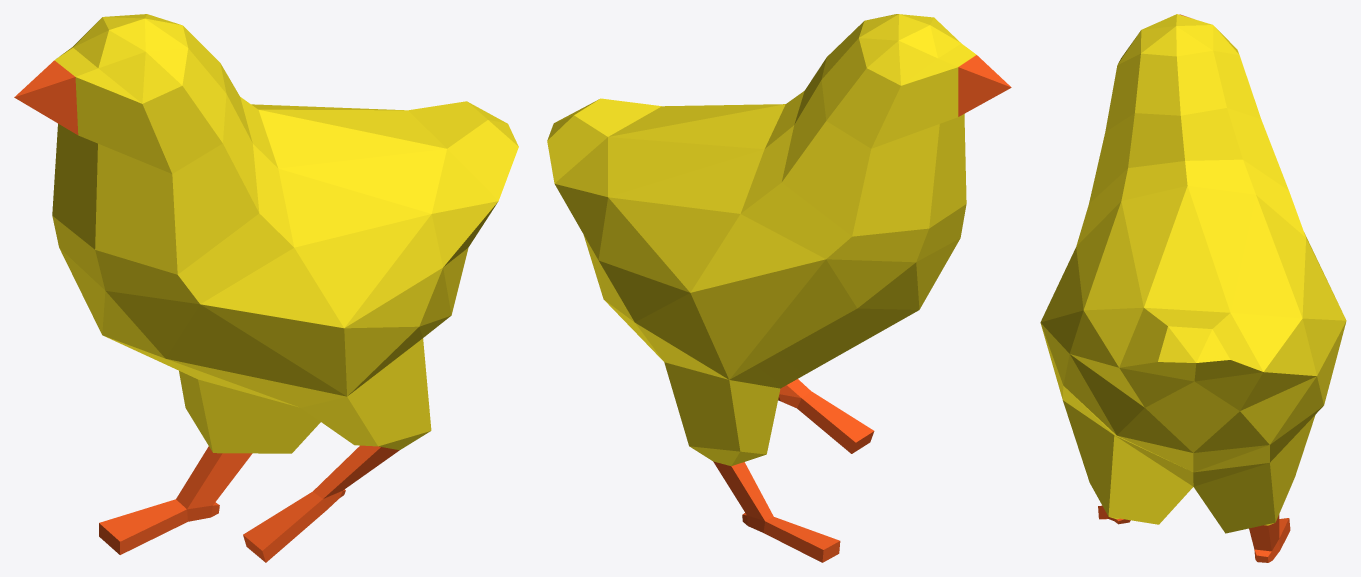
File: chickWalking7.obj
3 renders of one model, left to right at view 1: azimuth 30°, elevation 25°; view 2: azimuth 150°, elevation 25°; view 3: azimuth 270°, elevation 25°, orthographic. The views are drawn at different scales.
Parts seen in each view (by area): view 1: Icosphere.001_Icosphere.002; view 2: Icosphere.001_Icosphere.002; view 3: Icosphere.001_Icosphere.002.
Boxes of the visible parts, x1=… form: Icosphere.001_Icosphere.002: x1=14, y1=14, x2=518, y2=562; Icosphere.001_Icosphere.002: x1=547, y1=14, x2=1011, y2=562; Icosphere.001_Icosphere.002: x1=1040, y1=14, x2=1346, y2=562.
Size of the model in its own units: 12.42 by 13.57 by 7.53.
